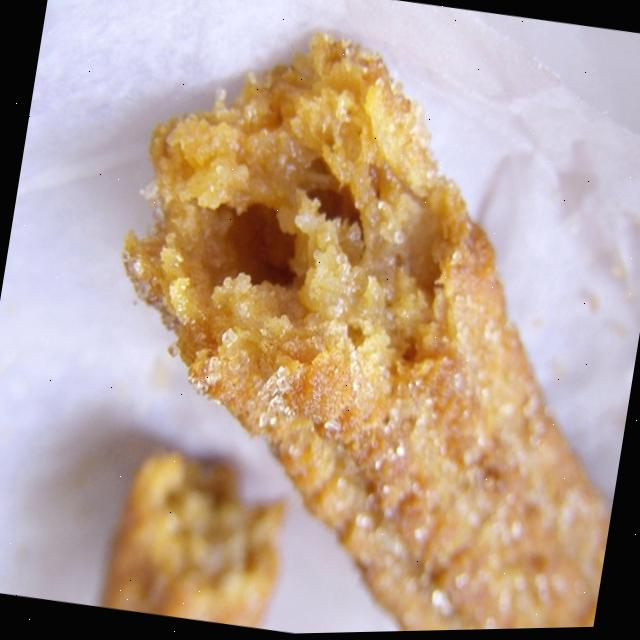炸货点心: (59, 4, 640, 639)
